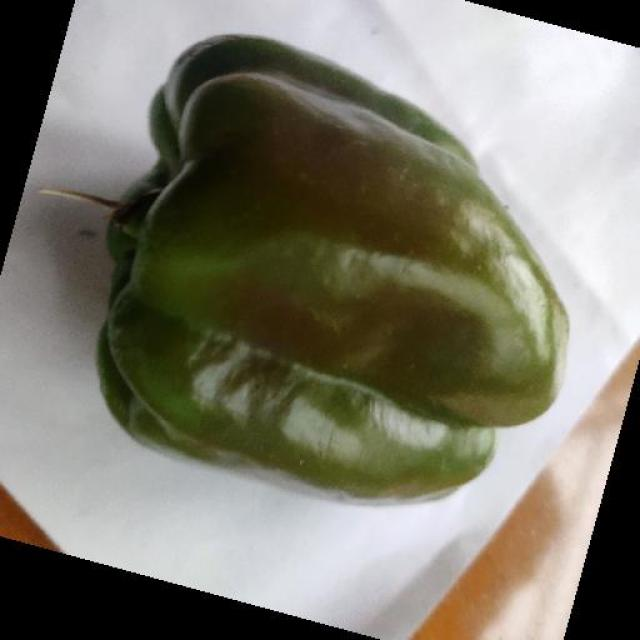Stale_Capsicum: (100, 78, 526, 482)
